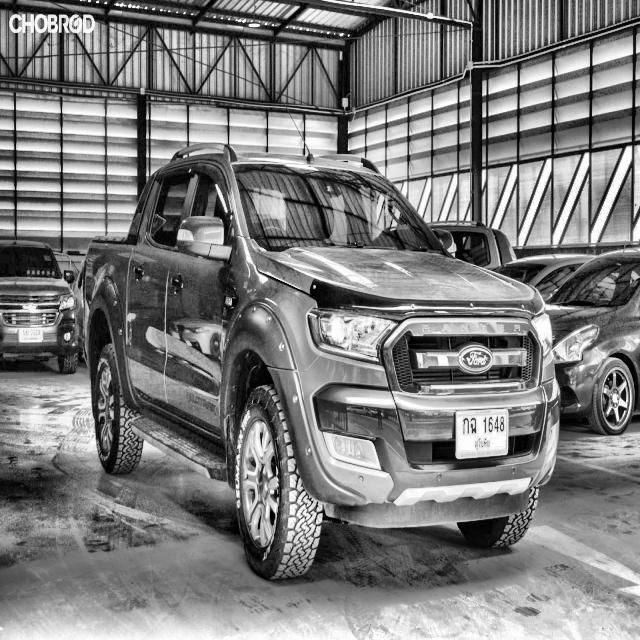license-plate: (455, 406, 509, 458)
